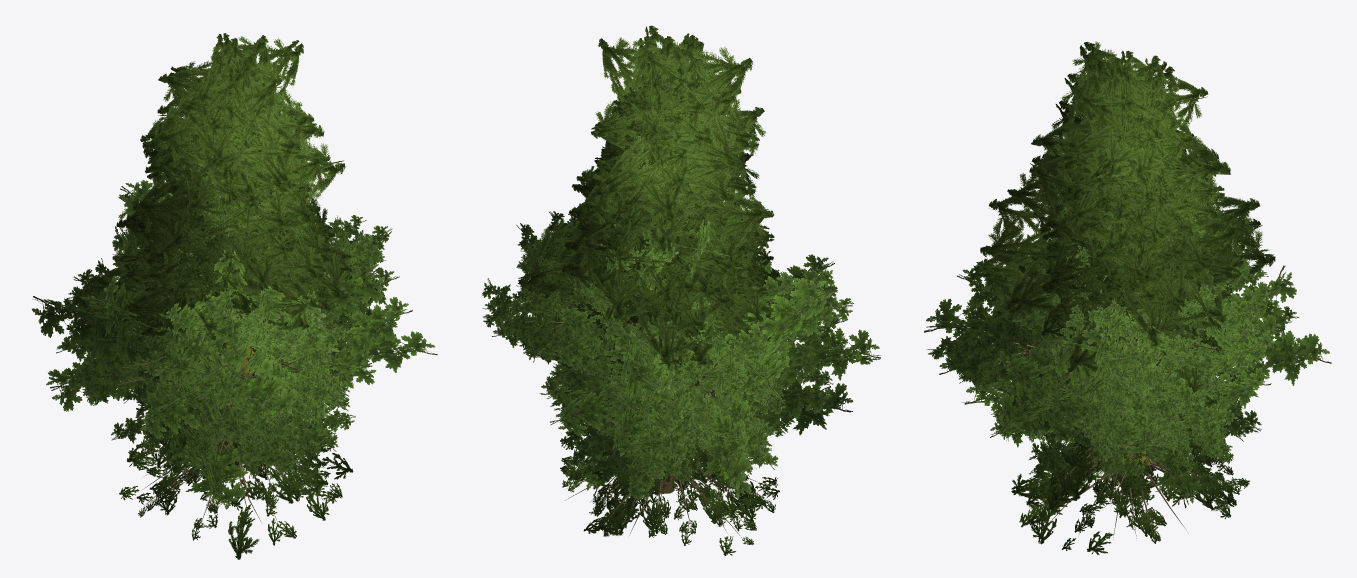
The model's file is trees.glb.
3 views of the same model, side by side, from view 1: azimuth 30°, elevation 25°; view 2: azimuth 150°, elevation 25°; view 3: azimuth 270°, elevation 25° (orthographic). The views are drawn at different scales.
Visible parts, largest first — view 1: whitepine_a_lod2_leaves, oak_lod2_leaves, oak_lod1_leaves, oak_lod0_leaves, whitepine_b_lod2_leaves, whitepine_a_lod1_leaves, maple_lod1_leaves, hemlock_lod2_leaves, maple_lod2_leaves, whitepine_a_lod0_leaves, hemlock_lod1_leaves, hemlock_lod0_leaves (+3 smaller); view 2: whitepine_a_lod2_leaves, oak_lod2_leaves, oak_lod1_leaves, whitepine_b_lod2_leaves, whitepine_a_lod1_leaves, oak_lod0_leaves, maple_lod1_leaves, maple_lod2_leaves, whitepine_a_lod0_leaves, hemlock_lod0_leaves, maple_lod0_leaves, hemlock_lod1_leaves (+2 smaller); view 3: whitepine_a_lod2_leaves, oak_lod2_leaves, oak_lod0_leaves, whitepine_a_lod1_leaves, oak_lod1_leaves, whitepine_b_lod2_leaves, maple_lod1_leaves, maple_lod2_leaves, hemlock_lod1_leaves, whitepine_a_lod0_leaves, hemlock_lod2_leaves, hemlock_lod0_leaves (+3 smaller).
Part boxes in pixels (bbox=[...]): whitepine_a_lod2_leaves: bbox=[118, 33, 379, 331]; oak_lod2_leaves: bbox=[32, 164, 437, 515]; oak_lod1_leaves: bbox=[56, 186, 392, 478]; oak_lod0_leaves: bbox=[78, 203, 390, 474]; whitepine_b_lod2_leaves: bbox=[89, 96, 321, 349]; whitepine_a_lod1_leaves: bbox=[114, 53, 352, 310]; maple_lod1_leaves: bbox=[111, 267, 355, 461]; hemlock_lod2_leaves: bbox=[126, 234, 353, 559]; maple_lod2_leaves: bbox=[116, 272, 339, 475]; whitepine_a_lod0_leaves: bbox=[132, 69, 329, 291]; hemlock_lod1_leaves: bbox=[119, 328, 338, 545]; hemlock_lod0_leaves: bbox=[128, 374, 342, 540]; whitepine_a_lod2_leaves: bbox=[518, 25, 773, 324]; oak_lod2_leaves: bbox=[527, 195, 880, 499]; oak_lod1_leaves: bbox=[482, 217, 853, 499]; whitepine_b_lod2_leaves: bbox=[541, 92, 781, 367]; whitepine_a_lod1_leaves: bbox=[556, 56, 774, 338]; oak_lod0_leaves: bbox=[509, 200, 833, 456]; maple_lod1_leaves: bbox=[548, 278, 786, 500]; maple_lod2_leaves: bbox=[539, 255, 797, 496]; whitepine_a_lod0_leaves: bbox=[565, 77, 741, 328]; hemlock_lod0_leaves: bbox=[560, 256, 779, 545]; maple_lod0_leaves: bbox=[559, 316, 784, 482]; hemlock_lod1_leaves: bbox=[561, 250, 777, 555]; whitepine_a_lod2_leaves: bbox=[974, 41, 1275, 379]; oak_lod2_leaves: bbox=[924, 250, 1331, 452]; oak_lod0_leaves: bbox=[951, 205, 1268, 479]; whitepine_a_lod1_leaves: bbox=[1034, 71, 1237, 338]; oak_lod1_leaves: bbox=[927, 216, 1299, 453]; whitepine_b_lod2_leaves: bbox=[1018, 99, 1244, 399]; maple_lod1_leaves: bbox=[978, 275, 1245, 479]; maple_lod2_leaves: bbox=[1012, 288, 1271, 508]; hemlock_lod1_leaves: bbox=[1019, 305, 1231, 536]; whitepine_a_lod0_leaves: bbox=[1029, 95, 1231, 314]; hemlock_lod2_leaves: bbox=[1011, 307, 1236, 554]; hemlock_lod0_leaves: bbox=[1028, 311, 1249, 550].
Bounding box in the file's own units: 23.83 × 33.36 × 25.09.
Materials: 11 (11 with a texture image).
